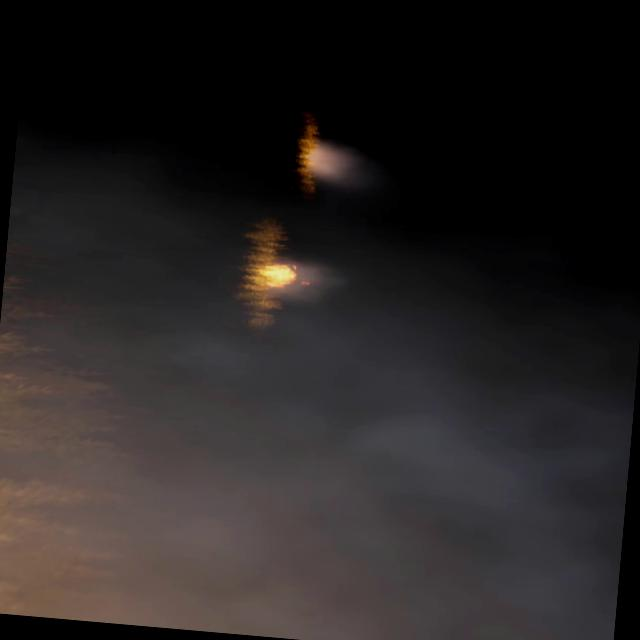fire: (265, 262, 295, 286)
smoke: (0, 185, 640, 640), (308, 140, 371, 190)
